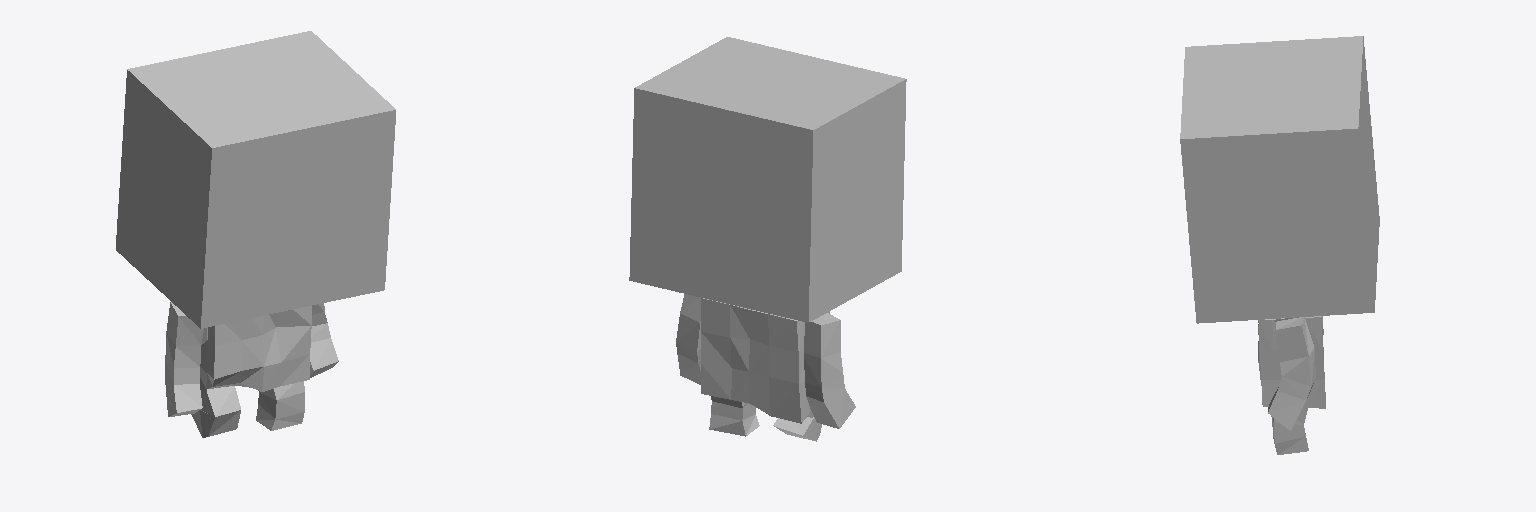
File: boxman-animation-hodba_000010.obj
The picture shows the model from 3 angles: view 1: azimuth 30°, elevation 25°; view 2: azimuth 150°, elevation 25°; view 3: azimuth 270°, elevation 25°; orthographic projection.
Parts seen in each view (by area): view 1: Cube; view 2: Cube; view 3: Cube.
Part boxes in pixels (x1,y1,x2,y2): Cube: (116, 31, 395, 437); Cube: (629, 37, 906, 441); Cube: (1180, 36, 1379, 454).
Bounding box in the file's own units: 2.12 × 3.81 × 1.94.